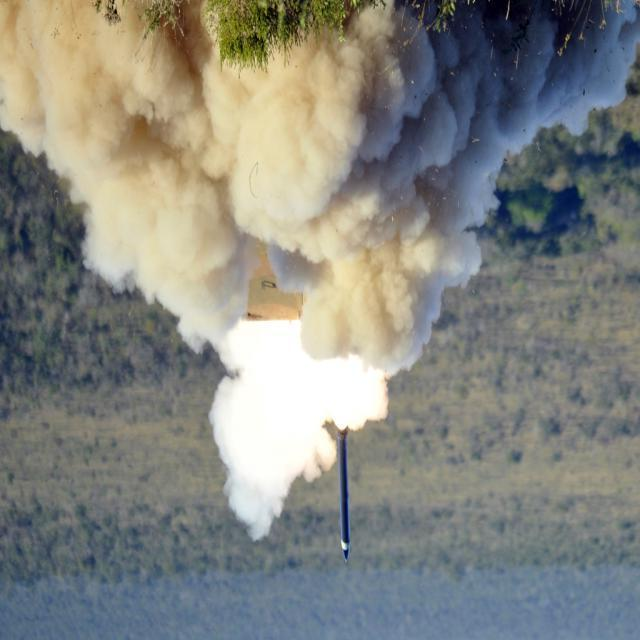Missile: (326, 415, 359, 573)
